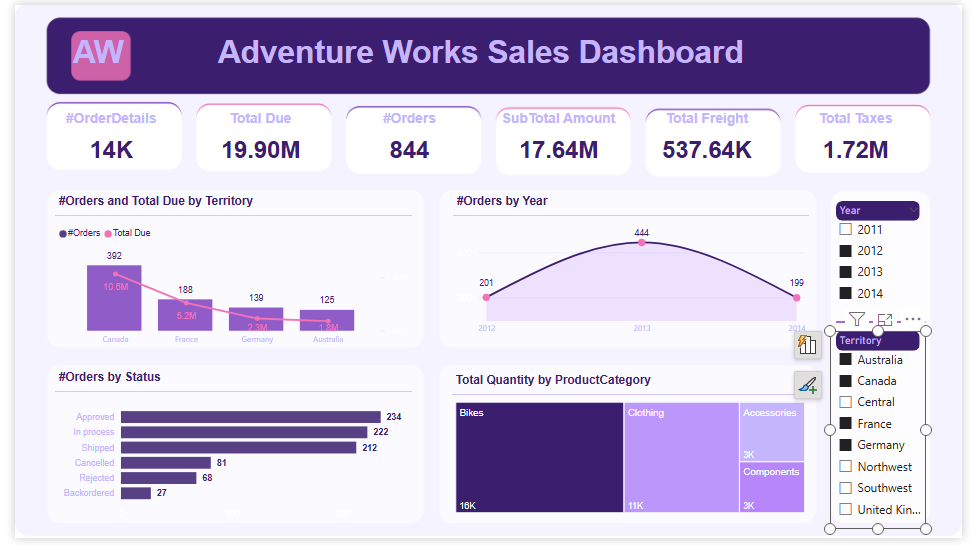

What the dashboard file says about the page in this screenshot:
{"tool":"powerbi","page":{"name":"Page 4","canvas":[1280,720],"ordinal":2},"visuals":[{"type":"shape","box":[1110,441.1,113.3,26.7],"z":0},{"type":"shape","box":[1110,264.4,113.3,26.7],"z":1000},{"type":"card","title":"#OrderDetails","fields":{"Values":["#KPIs.#OrderDetails"]},"box":[32.6,141.7,195,85],"z":2000},{"type":"card","title":"#Orders","fields":{"Values":["#KPIs.#Orders"]},"box":[434.8,141.7,195.6,85],"z":3000},{"type":"card","title":"SubTotal Amount","fields":{"Values":["#KPIs.SubTotal Amount"]},"box":[636.1,141.7,195.6,85],"z":4000},{"type":"card","title":"Total Due","fields":{"Values":["#KPIs.Total Due"]},"box":[233.4,141.7,195.6,85],"z":5000},{"type":"card","title":"Total Freight","fields":{"Values":["#KPIs.Total Freight"]},"box":[837.5,141.7,194.2,85],"z":6000},{"type":"card","title":"Total Taxes","fields":{"Values":["#KPIs.Total Taxes"]},"box":[1037.5,141.7,195.6,85],"z":7000},{"type":"lineChart","fields":{"Category":["DIm Date.OrderDate.Variation.Date Hierarchy.Year","DIm Date.OrderDate.Variation.Date Hierarchy.Quarter","DIm Date.OrderDate.Variation.Date Hierarchy.Month","DIm Date.OrderDate.Variation.Date Hierarchy.Day"],"Y":["#KPIs.#Orders"]},"box":[591.4,257.1,481.4,197.1],"z":8000},{"type":"barChart","fields":{"Category":["Dim Status.Status"],"Y":["#KPIs.#Orders"]},"box":[54.3,494.3,482.9,210],"z":9000},{"type":"lineStackedColumnComboChart","fields":{"Y":["#KPIs.#Orders"],"Category":["Dim Territory.Territory"],"Y2":["#KPIs.Total Due"]},"box":[54.3,257.1,482.9,211.4],"z":10000},{"type":"slicer","fields":{"Values":["DIm Date.OrderDate.Variation.Date Hierarchy.Year"]},"box":[1101.1,264.4,132.2,145.6],"z":11000},{"type":"treemap","fields":{"Group":["Dim Products.ProductCategory Hierarchy.ProductCategory","Dim Products.ProductCategory Hierarchy.ProductSubCategory"],"Values":["#KPIs.Total Quantity"]},"box":[590,498.6,481.4,191.4],"z":12000},{"type":"slicer","fields":{"Values":["Dim Territory.Territory"]},"box":[1101.1,441.1,130,266.7],"z":13000},{"type":"textbox","box":[261.1,33.3,736.7,72.2],"z":14000},{"type":"textbox","box":[66.7,33.3,92.2,64.4],"z":15000},{"type":"shape","box":[1110,414.3,121.4,27.1],"z":16000}]}

Visuals, with their boxes in screenshot pixels (x1, y1, x2, y2), scaled from the page's 1280x720 canvas onto the 974x545 screenshot:
shape: locate(845, 334, 931, 354)
shape: locate(845, 200, 931, 220)
"#OrderDetails" card: locate(25, 107, 173, 172)
"#Orders" card: locate(331, 107, 480, 172)
"SubTotal Amount" card: locate(484, 107, 633, 172)
"Total Due" card: locate(178, 107, 326, 172)
"Total Freight" card: locate(637, 107, 785, 172)
"Total Taxes" card: locate(789, 107, 938, 172)
lineChart - DIm Date.OrderDate.Variation.Date Hierarchy.Year x DIm Date.OrderDate.Variation.Date Hierarchy.Quarter: locate(450, 195, 816, 344)
barChart - Dim Status.Status x #KPIs.#Orders: locate(41, 374, 409, 533)
lineStackedColumnComboChart - #KPIs.#Orders x Dim Territory.Territory: locate(41, 195, 409, 355)
slicer - DIm Date.OrderDate.Variation.Date Hierarchy.Year: locate(838, 200, 938, 310)
treemap - Dim Products.ProductCategory Hierarchy.ProductCategory x Dim Products.ProductCategory Hierarchy.ProductSubCategory: locate(449, 377, 815, 522)
slicer - Dim Territory.Territory: locate(838, 334, 937, 536)
textbox: locate(199, 25, 759, 80)
textbox: locate(51, 25, 121, 74)
shape: locate(845, 314, 937, 334)
